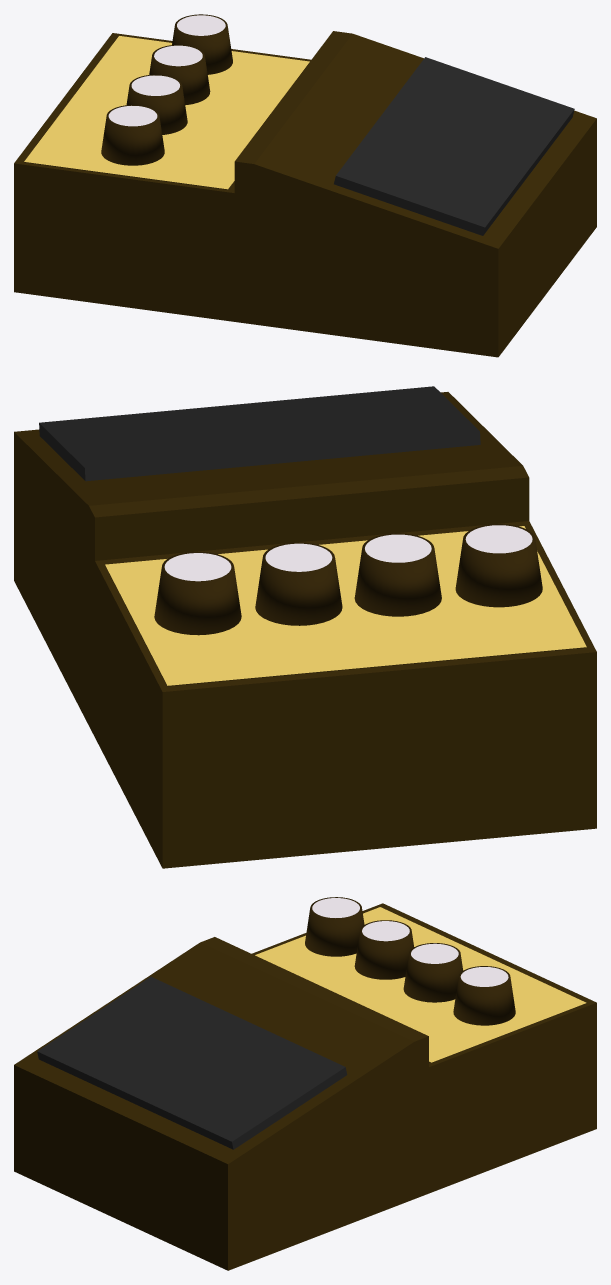
The model's file is pedal1.glb.
3 views of the same model, one above another, from view 1: azimuth 30°, elevation 25°; view 2: azimuth 150°, elevation 25°; view 3: azimuth 270°, elevation 25° (orthographic). The views are drawn at different scales.
Parts seen in each view (by area): view 1: pedal3; view 2: pedal3; view 3: pedal3.
Boxes of the visible parts, x1=… form: pedal3: x1=14, y1=14, x2=596, y2=357; pedal3: x1=14, y1=386, x2=596, y2=868; pedal3: x1=14, y1=897, x2=596, y2=1270.
Size of the model in its own units: 0.5831 by 0.1883 by 0.5954.
